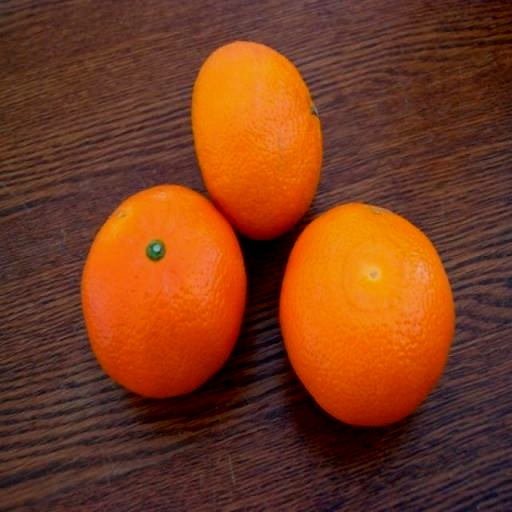fruit: (280, 204, 454, 425), (82, 186, 246, 397), (192, 42, 321, 239)
